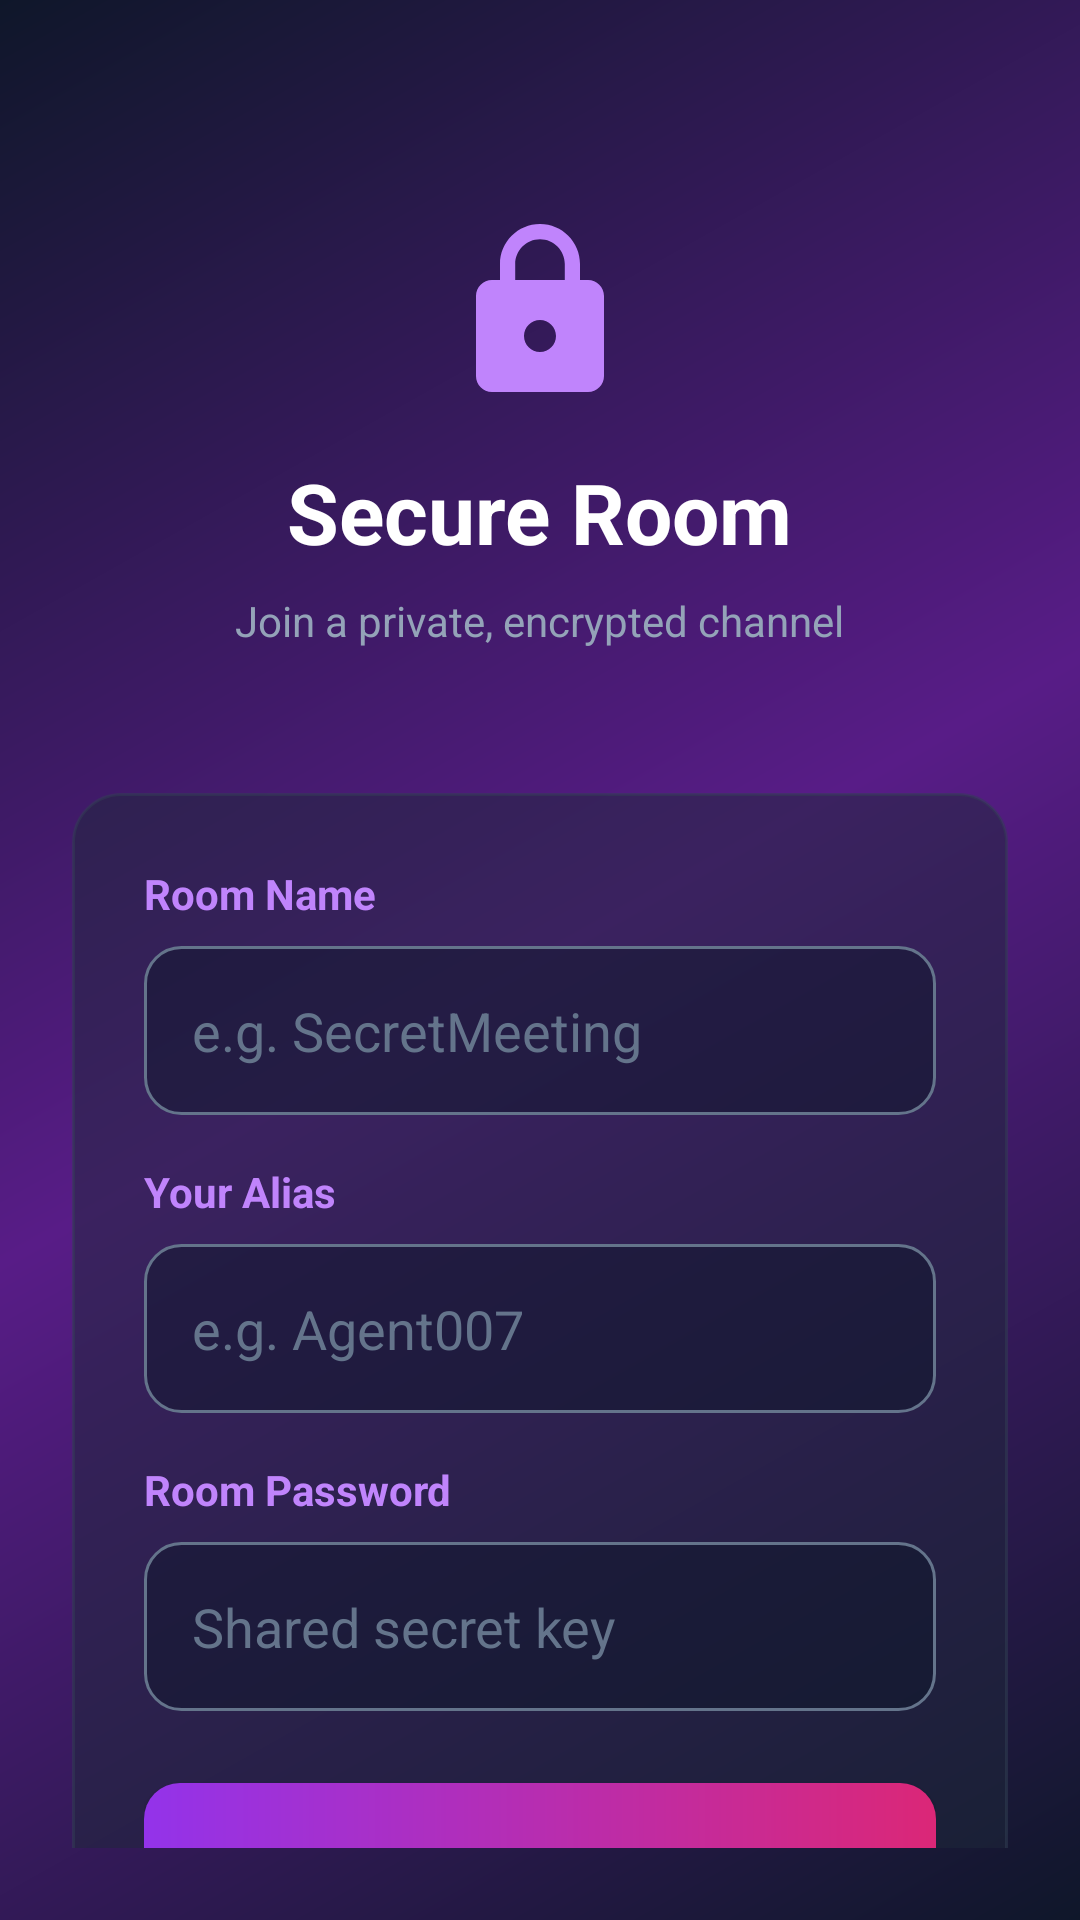

Named icons in this screenshot (1080w x 1920h) and their bounding boxes, [x1,y1,x2,y2]:
lock: [476,224,604,392]
